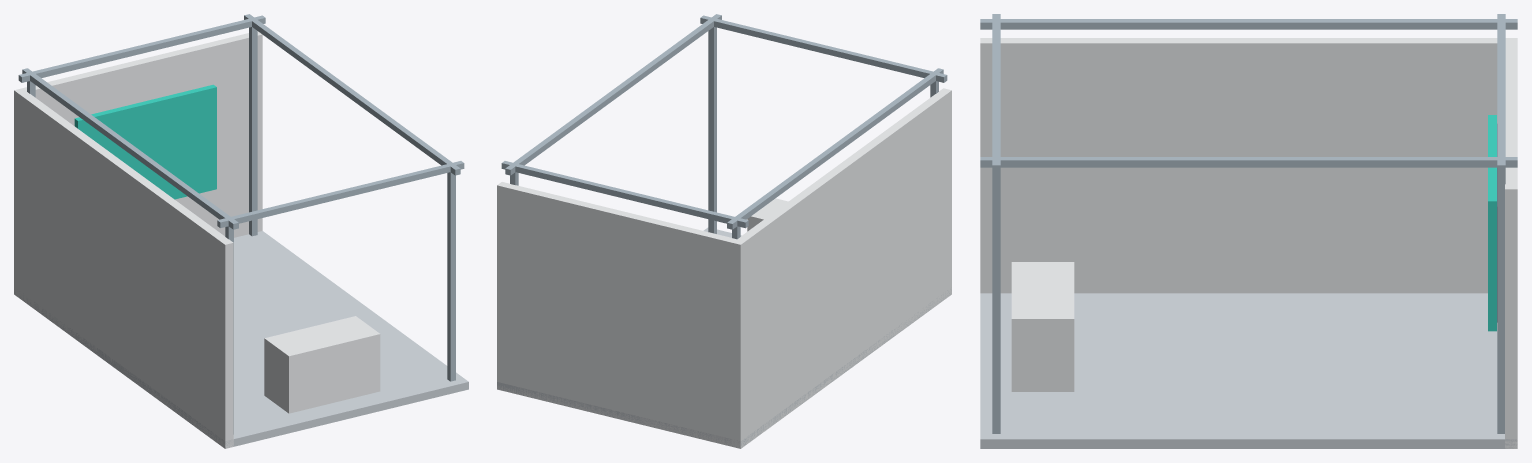
3 views of the same model, side by side, from view 1: azimuth 30°, elevation 25°; view 2: azimuth 150°, elevation 25°; view 3: azimuth 270°, elevation 25° (orthographic). The views are drawn at different scales.
Parts seen in each view (by area): view 1: Exhibition Booth Concept; view 2: Exhibition Booth Concept; view 3: Exhibition Booth Concept.
Part boxes in pixels (bbox=[...]): Exhibition Booth Concept: bbox=[14, 14, 468, 448]; Exhibition Booth Concept: bbox=[497, 14, 951, 448]; Exhibition Booth Concept: bbox=[980, 14, 1517, 448].
Bounding box in the file's own units: 4 × 3.49 × 6.
